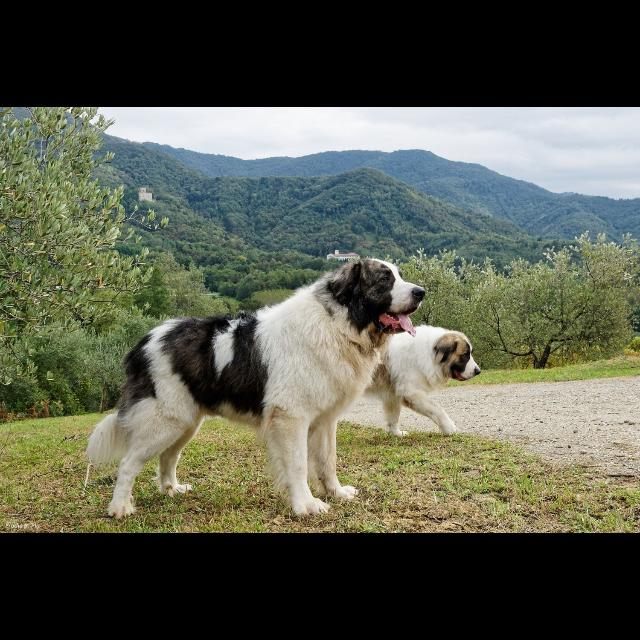other_dog_breed: (85, 258, 427, 522), (363, 325, 482, 439)
